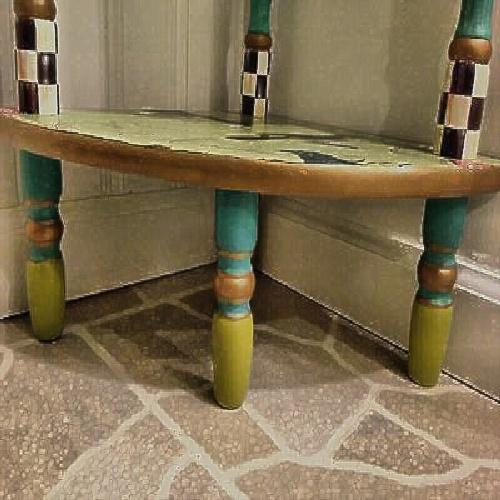table: (39, 81, 473, 389)
